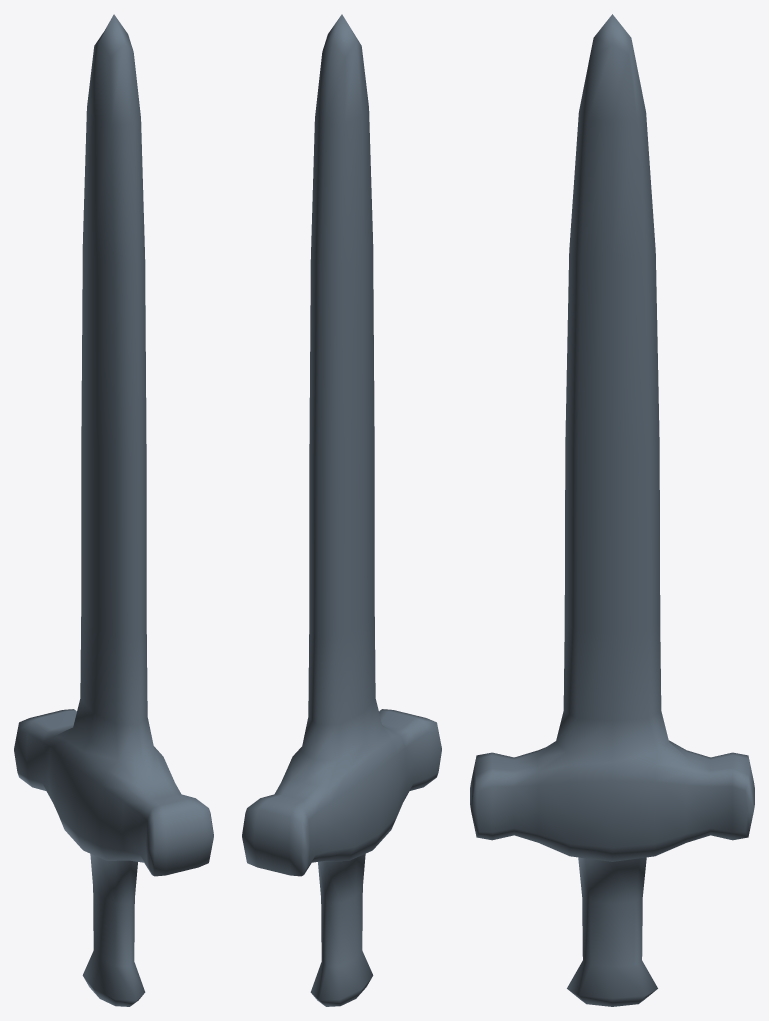
File: sword.fbx
3 views of the same model, side by side, from view 1: azimuth 30°, elevation 25°; view 2: azimuth 150°, elevation 25°; view 3: azimuth 270°, elevation 25° (orthographic).
Parts seen in each view (by area): view 1: sword; view 2: sword; view 3: sword.
Part boxes in pixels (x1,y1,x2,y2): sword: (14,14,213,1006); sword: (242,14,441,1006); sword: (470,14,754,1006).
Bounding box in the file's own units: 0.0717 × 0.8711 × 0.2272.
